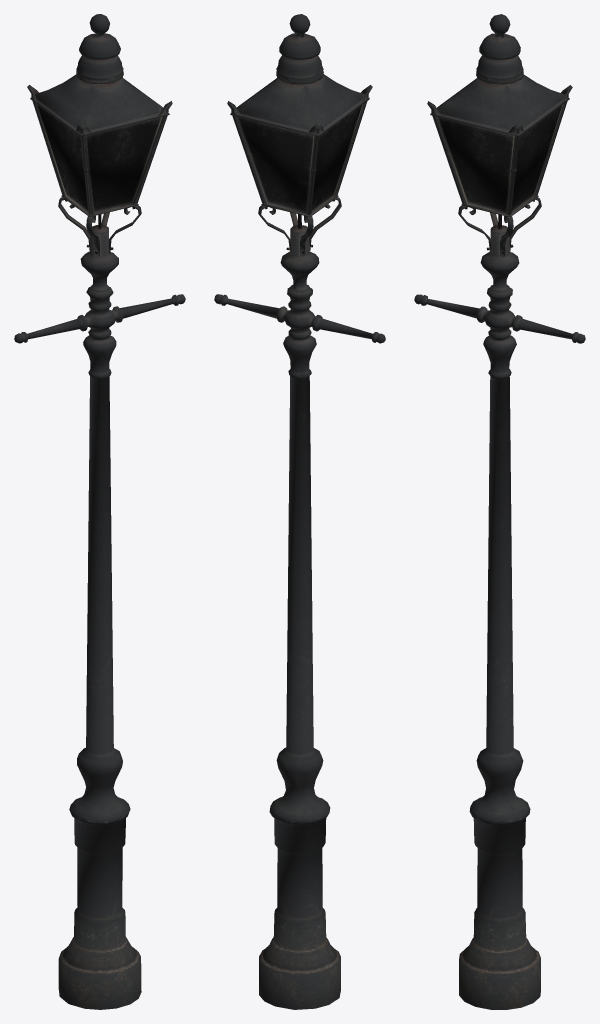
File: street_lamp_01.fbx
The picture shows the model from 3 angles, left to right: view 1: azimuth 30°, elevation 25°; view 2: azimuth 150°, elevation 25°; view 3: azimuth 330°, elevation 25°; orthographic projection.
Parts seen in each view (by area): view 1: street_lamp_01_LOD0; view 2: street_lamp_01_LOD0; view 3: street_lamp_01_LOD0.
Part boxes in pixels (bbox=[...]): street_lamp_01_LOD0: bbox=[14, 14, 185, 1009]; street_lamp_01_LOD0: bbox=[214, 14, 385, 1009]; street_lamp_01_LOD0: bbox=[414, 14, 585, 1009].
Size of what is drawn, in the model's own units: 70.48 by 387 by 38.42.
3 materials, 3 textured.
